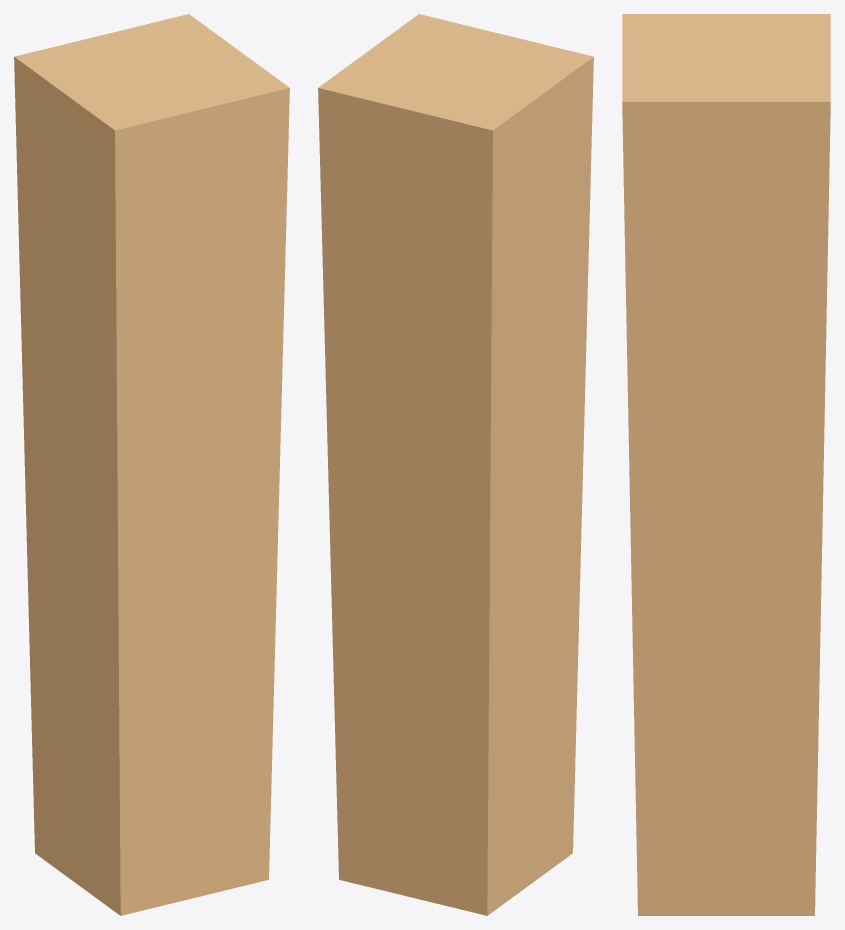
Rendered from guardrail_post.fbx.
The picture shows the model from 3 angles, left to right: view 1: azimuth 30°, elevation 25°; view 2: azimuth 150°, elevation 25°; view 3: azimuth 270°, elevation 25°; orthographic projection. The views are drawn at different scales.
Parts seen in each view (by area): view 1: Cube.002; view 2: Cube.002; view 3: Cube.002.
Part boxes in pixels (x1=…): Cube.002: x1=14, y1=14, x2=289, y2=915; Cube.002: x1=318, y1=14, x2=593, y2=915; Cube.002: x1=622, y1=14, x2=830, y2=915.
Bounding box in the file's own units: 101 × 440 × 101.
